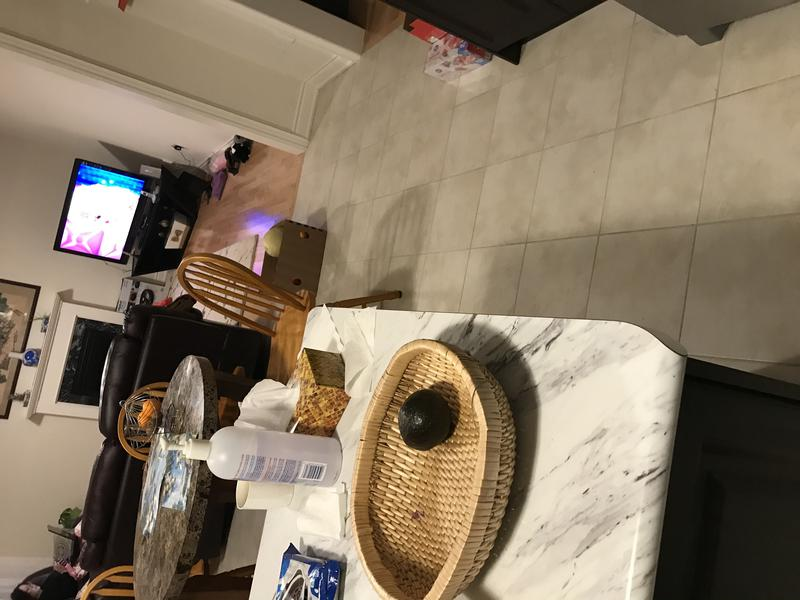avacado: (394, 384, 458, 459)
